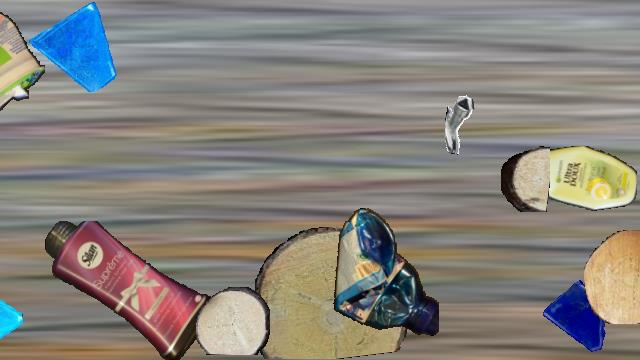glass: (29, 1, 119, 91), (541, 280, 619, 358), (0, 285, 22, 359)
metal: (445, 95, 507, 157)
plastic: (44, 221, 216, 359), (330, 206, 438, 342), (524, 146, 636, 212), (0, 1, 45, 139)
wood: (251, 227, 411, 359), (584, 230, 640, 324), (196, 287, 270, 355), (501, 145, 549, 211)
